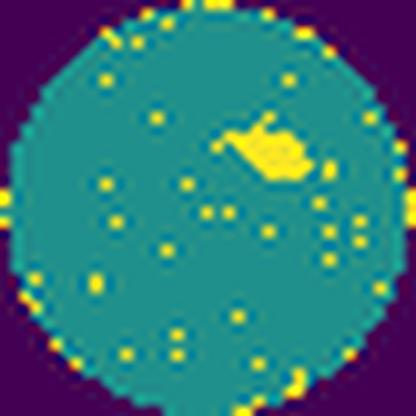Loc: (206, 109, 314, 183)
